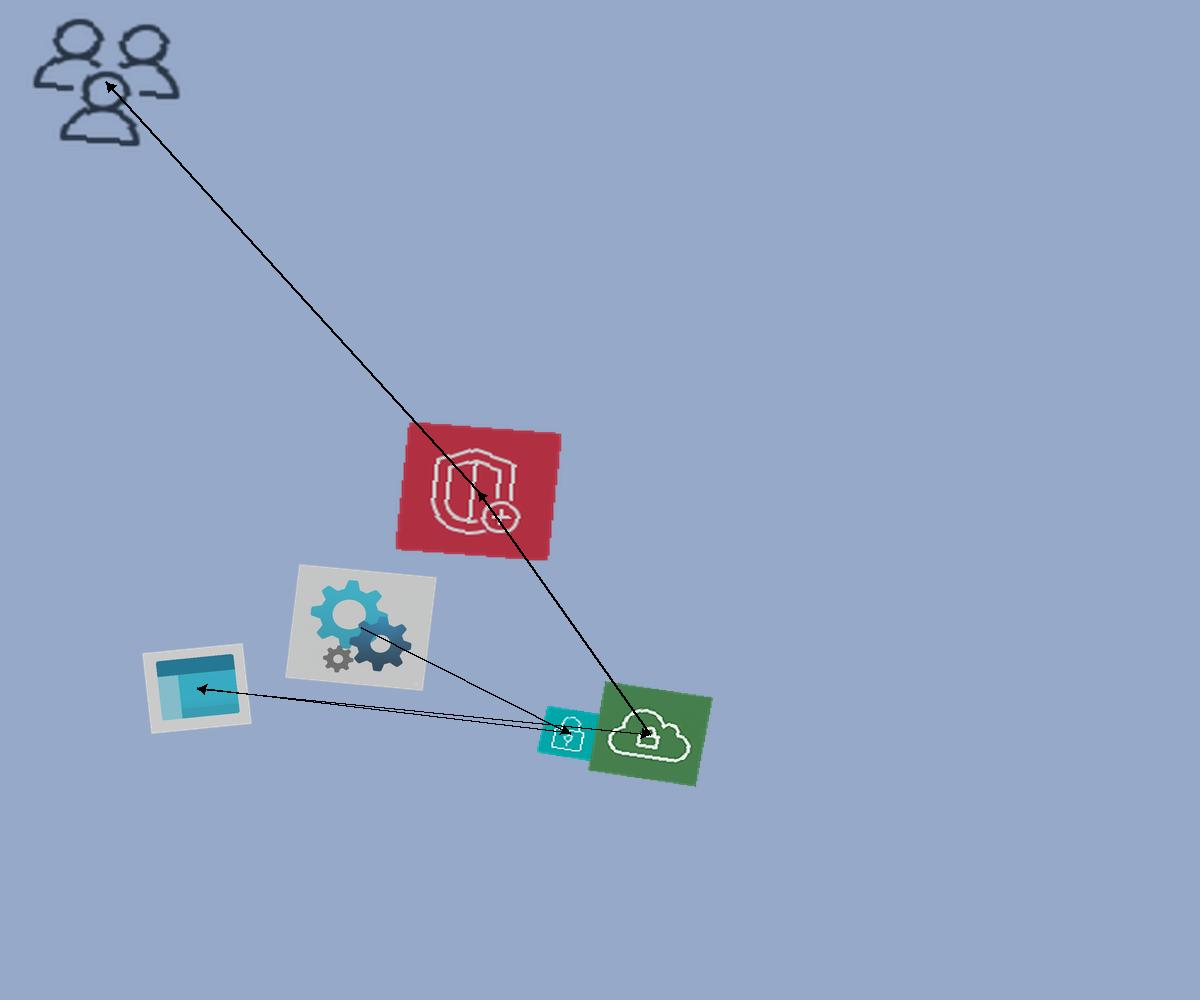AWS-Private-subnet: (536, 705, 604, 762)
AWS-Private_vpc: (587, 681, 714, 787)
AWS-Res_Users: (17, 8, 196, 157)
AWS-Shield: (394, 421, 563, 562)
Azure_api: (285, 564, 437, 691)
Azure_management-portal: (142, 643, 252, 734)
